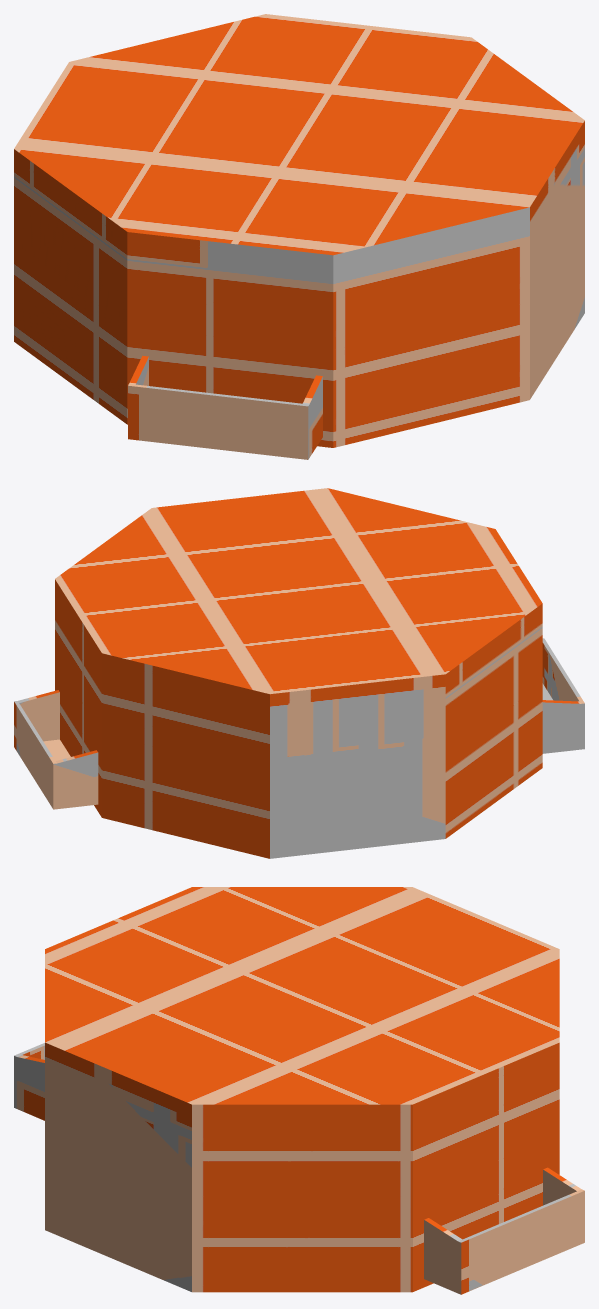
The model's file is 2_balkonlu_kat.fbx.
The picture shows the model from 3 angles, top to bottom: view 1: azimuth 30°, elevation 25°; view 2: azimuth 150°, elevation 25°; view 3: azimuth 270°, elevation 25°; orthographic projection. The views are drawn at different scales.
Parts seen in each view (by area): view 1: Cube.003; view 2: Cube.003; view 3: Cube.003.
Boxes of the visible parts, box(x1,y1,x2,y2) form: Cube.003: box(14, 14, 584, 459); Cube.003: box(14, 488, 584, 858); Cube.003: box(14, 887, 584, 1294).
Size of the model in its own units: 221 by 80.52 by 222.
